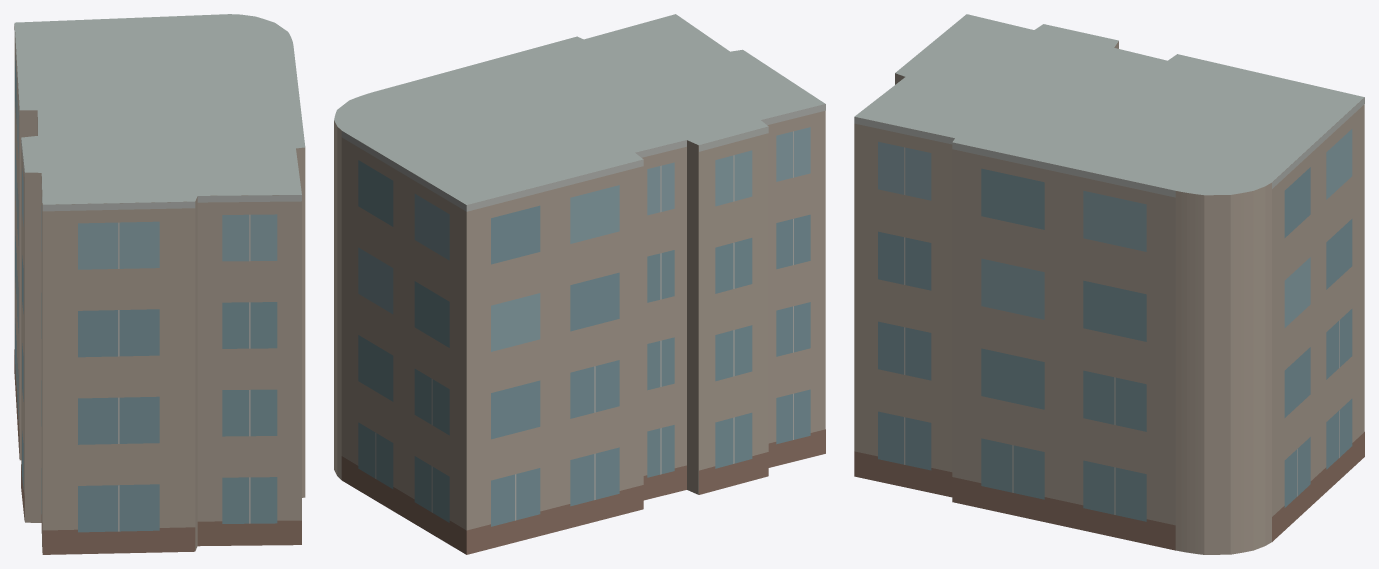
File: survey-upis-32676994.glb
3 views of the same model, side by side, from view 1: azimuth 30°, elevation 25°; view 2: azimuth 150°, elevation 25°; view 3: azimuth 270°, elevation 25° (orthographic). The views are drawn at different scales.
Visible parts, largest first — view 1: survey-upis-32676994.tmp; view 2: survey-upis-32676994.tmp; view 3: survey-upis-32676994.tmp.
Boxes of the visible parts, bbox=[...] form: survey-upis-32676994.tmp: bbox=[14, 14, 305, 554]; survey-upis-32676994.tmp: bbox=[334, 14, 825, 554]; survey-upis-32676994.tmp: bbox=[854, 14, 1364, 554].
Size of the model in its own units: 13.83 by 12.8 by 16.47.
